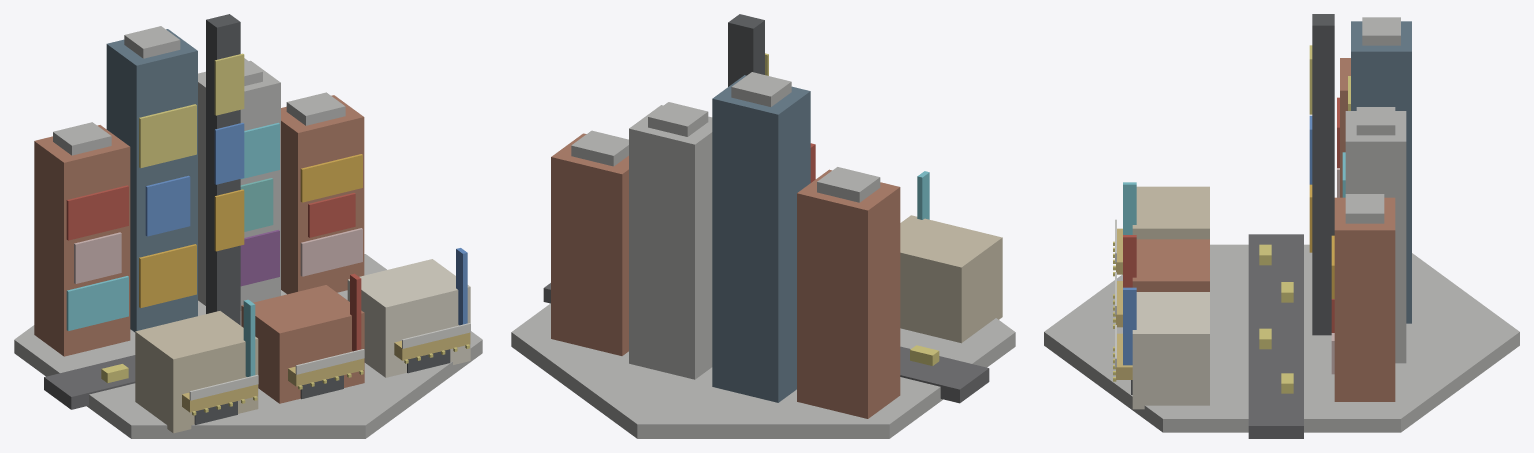
Rendered from broadway.glb.
3 renders of one model, left to right at view 1: azimuth 30°, elevation 25°; view 2: azimuth 150°, elevation 25°; view 3: azimuth 270°, elevation 25°, orthographic. The views are drawn at different scales.
Parts seen in each view (by area): view 1: LOD0; view 2: LOD0; view 3: LOD0.
Part boxes in pixels (x1=…): LOD0: x1=14, y1=14, x2=482, y2=438; LOD0: x1=511, y1=14, x2=1015, y2=438; LOD0: x1=1044, y1=14, x2=1519, y2=438.
Size of what is drawn, in the model's own units: 1.64 by 1.29 by 1.72.
